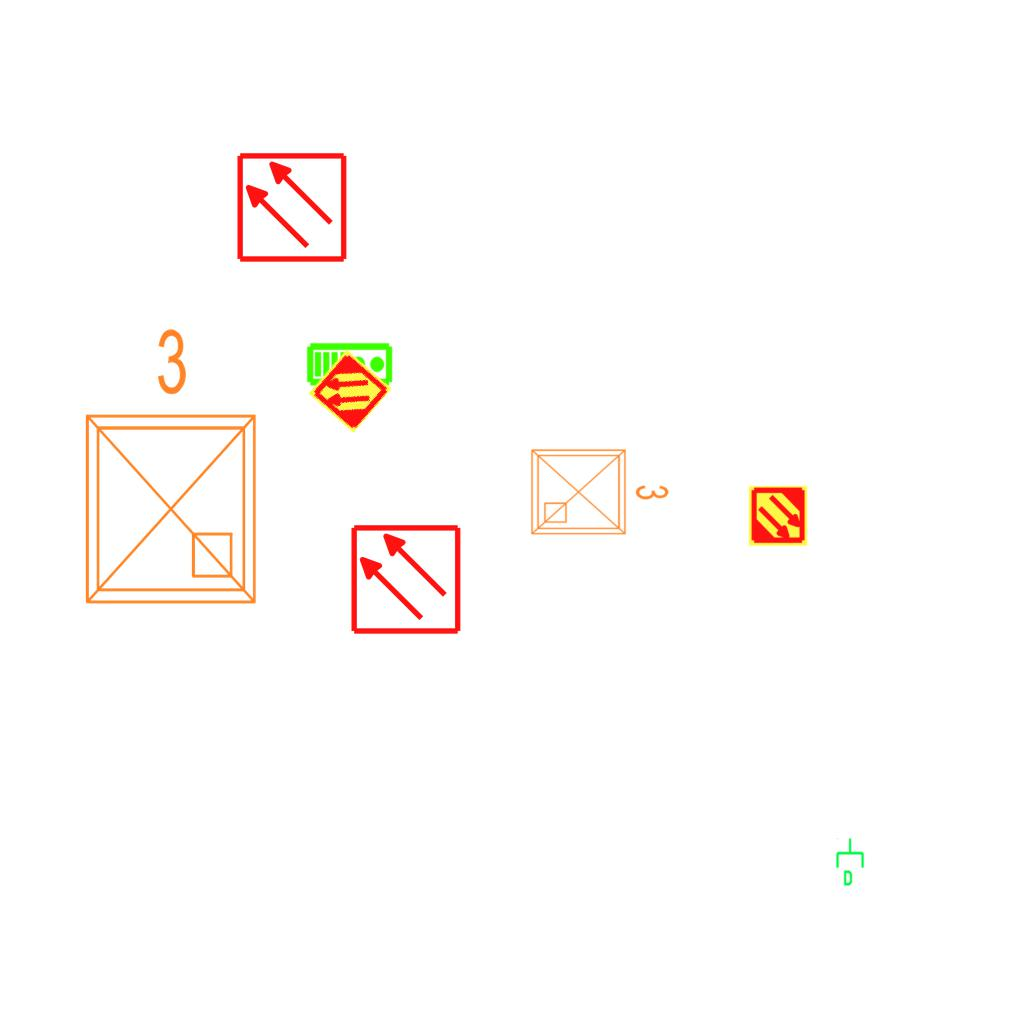ASR_Ansaugrauchmelder: (306, 347, 394, 435), (747, 485, 809, 547)
Datenanschluss_einfach: (834, 837, 868, 887)
Einbaudownlights_LED_Konferenzraeume: (63, 318, 271, 618), (524, 438, 674, 542)
Gegensprechanlage_mit_Video: (306, 340, 394, 387)
RMO_Rauchmelder_optischer: (349, 523, 462, 636), (235, 151, 348, 264)
